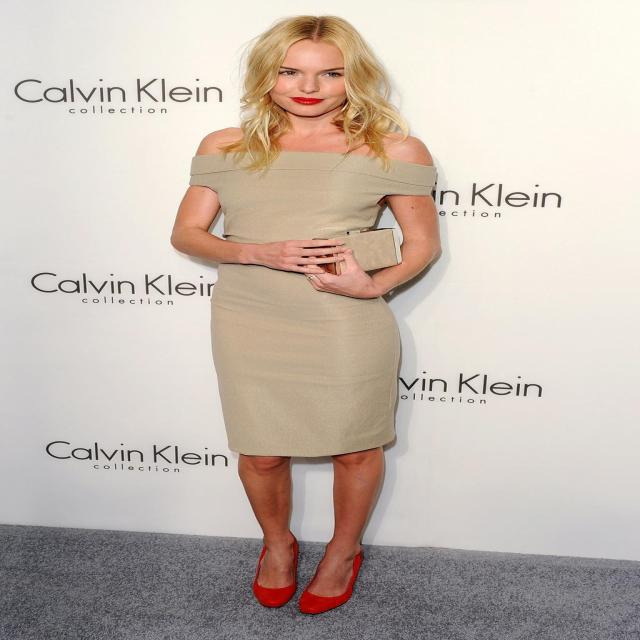nomask: (265, 39, 353, 117)
